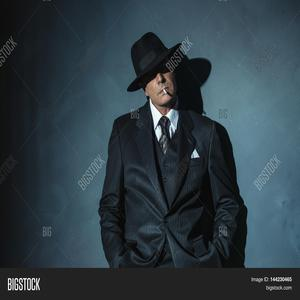cigarette: (160, 88, 169, 98)
